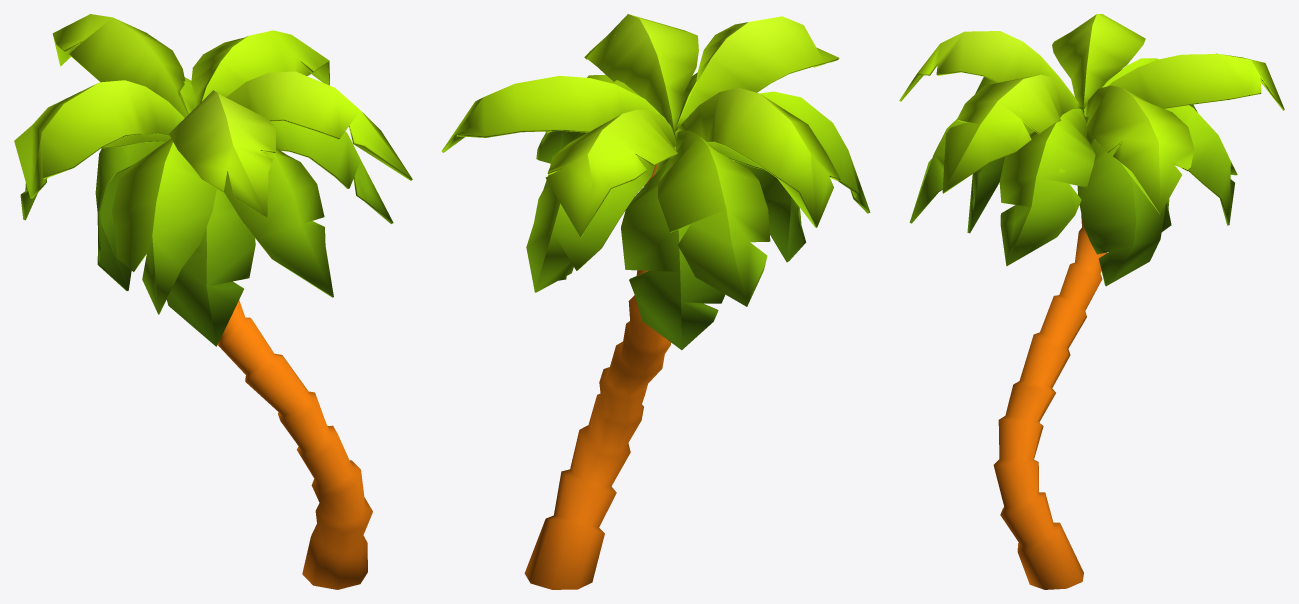
File: Plant_Palm_02.fbx
3 renders of one model, left to right at view 1: azimuth 30°, elevation 25°; view 2: azimuth 150°, elevation 25°; view 3: azimuth 270°, elevation 25°, orthographic. The views are drawn at different scales.
Visible parts, largest first — view 1: Plant_Palm_02; view 2: Plant_Palm_02; view 3: Plant_Palm_02.
Part boxes in pixels (x1,y1,x2,y2): Plant_Palm_02: (14,14,412,589); Plant_Palm_02: (441,14,870,589); Plant_Palm_02: (899,14,1284,589).
Bounding box in the file's own units: 276 × 429 × 309.
